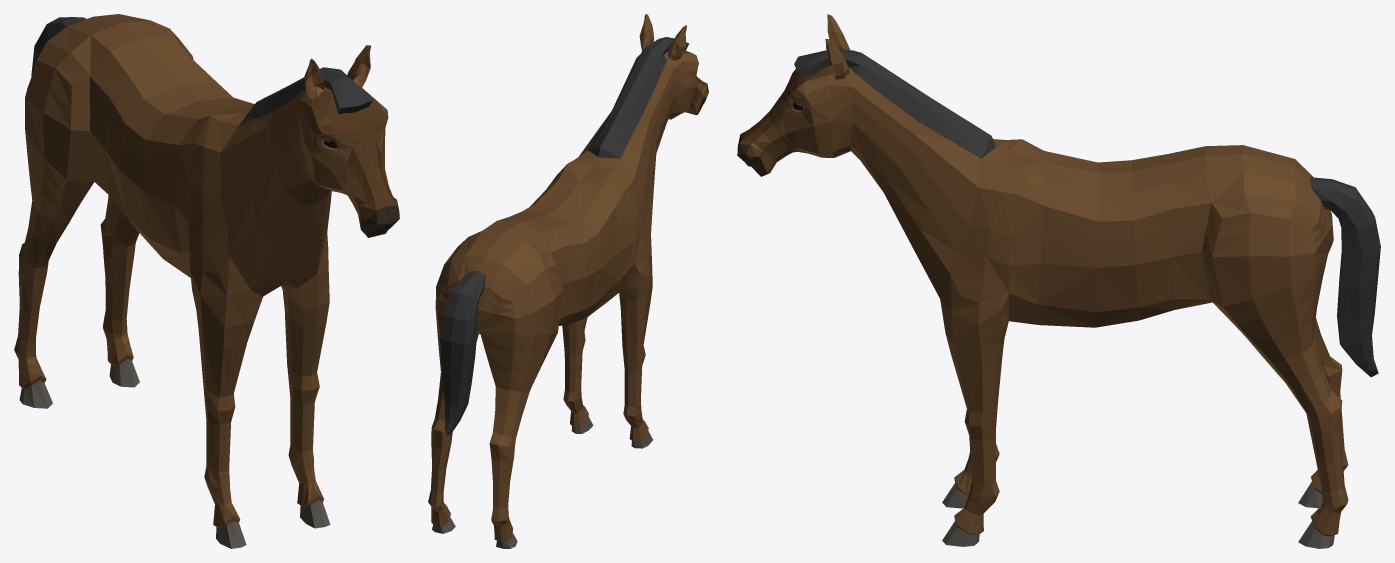
The model's file is horse.glb.
The picture shows the model from 3 angles, left to right: view 1: azimuth 30°, elevation 25°; view 2: azimuth 150°, elevation 25°; view 3: azimuth 270°, elevation 25°; orthographic projection. The views are drawn at different scales.
Visible parts, largest first — view 1: horse; view 2: horse; view 3: horse.
Part boxes in pixels (<box>): horse: <box>14,14,399,548</box>; horse: <box>428,14,708,548</box>; horse: <box>737,14,1380,548</box>.
Bounding box in the file's own units: 0.248 × 0.8493 × 1.
